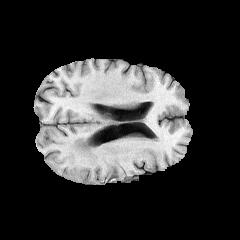glioma: (71, 138, 98, 166)
